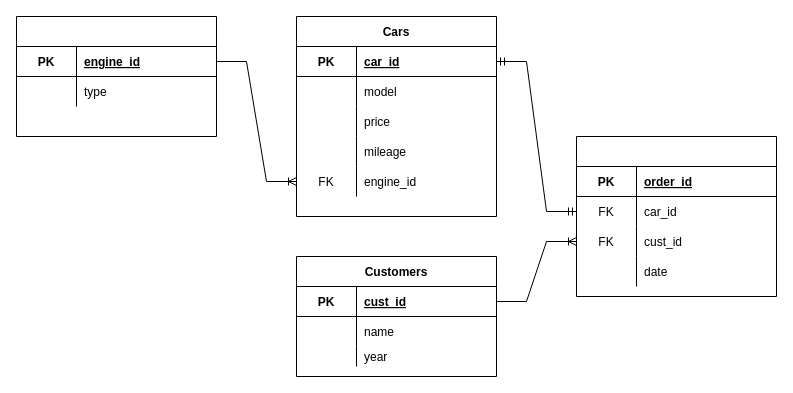
Some shapes in this 793 by 393 pixel diagram are drawn without their labels. The box of each missing label's shape, as (x1, y1, x2, y2) in pixels:
Engine_Type: (16, 16, 216, 136)
Orders: (576, 136, 776, 296)
